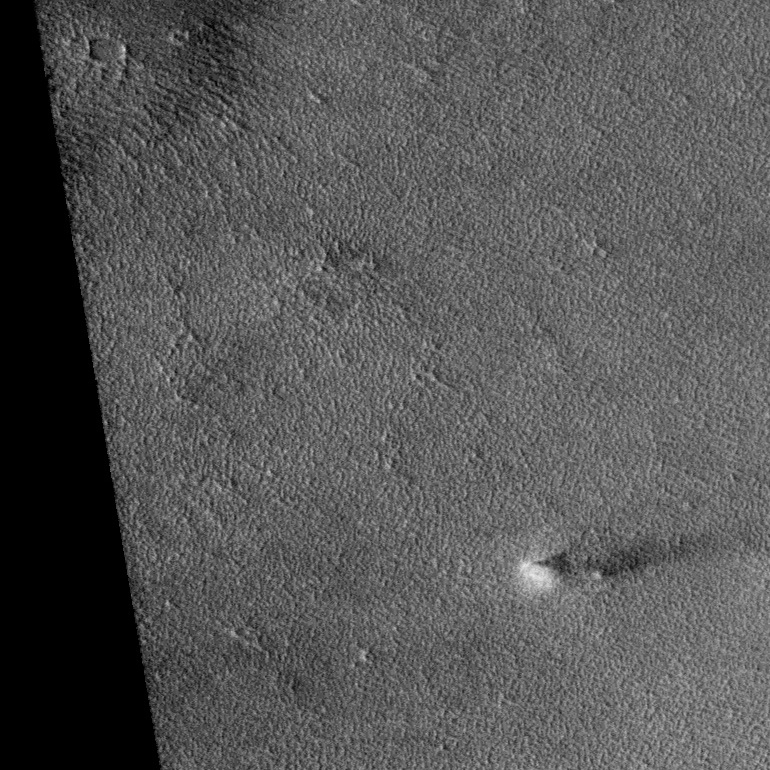dust_devil: (516, 532, 692, 592)
